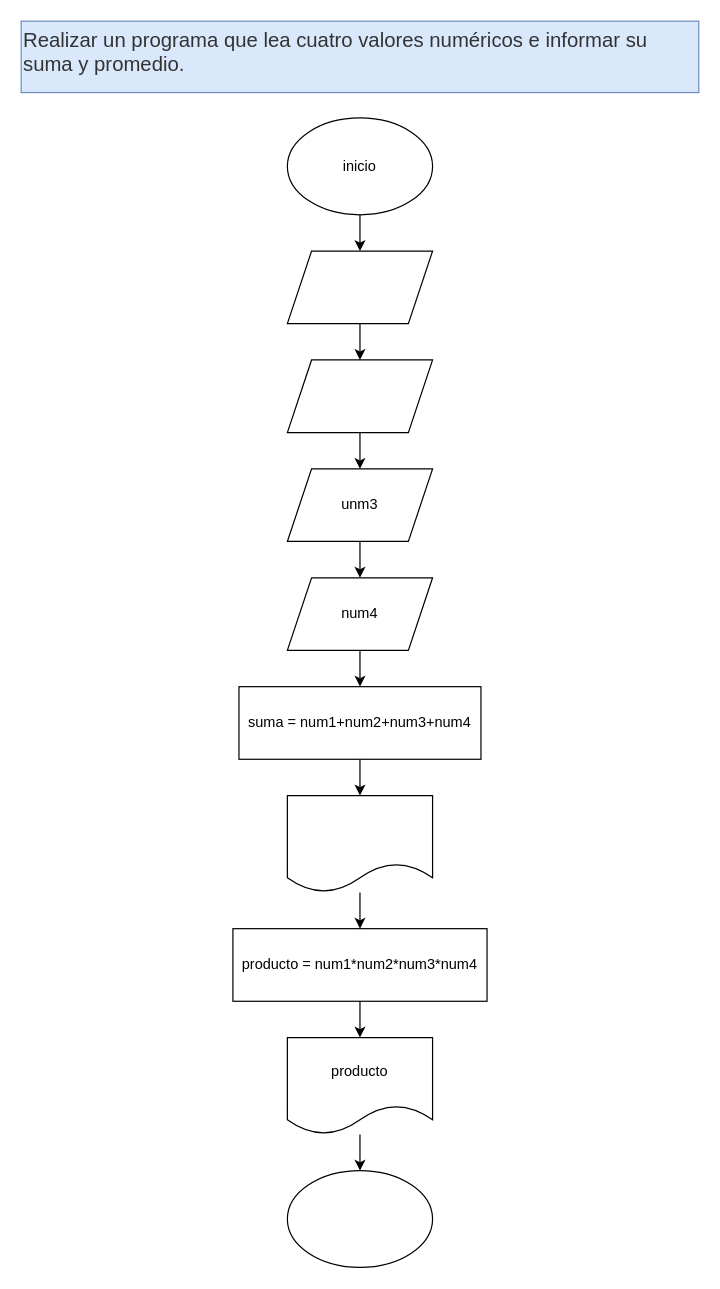
Some shapes in this 720 by 1289 pixel diagram are drawn without their labels. The shapes that lost their labels are listed below. From the top down, each one's centre as x and y in pixels, then its label:
At (359,287): "num1".
At (359,396): "num2".
At (359,843): "suma".
At (359,1218): "fin".
